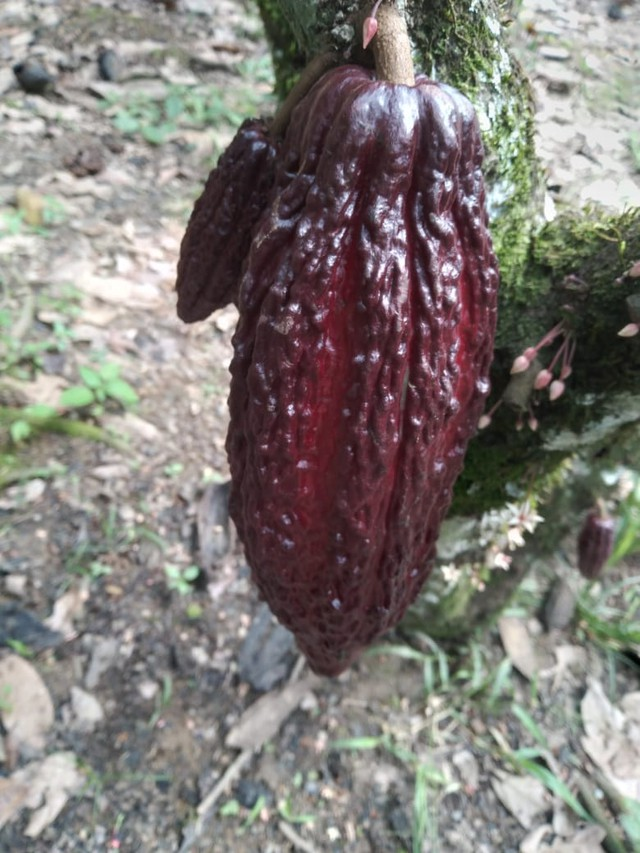Health: (206, 43, 508, 682)
